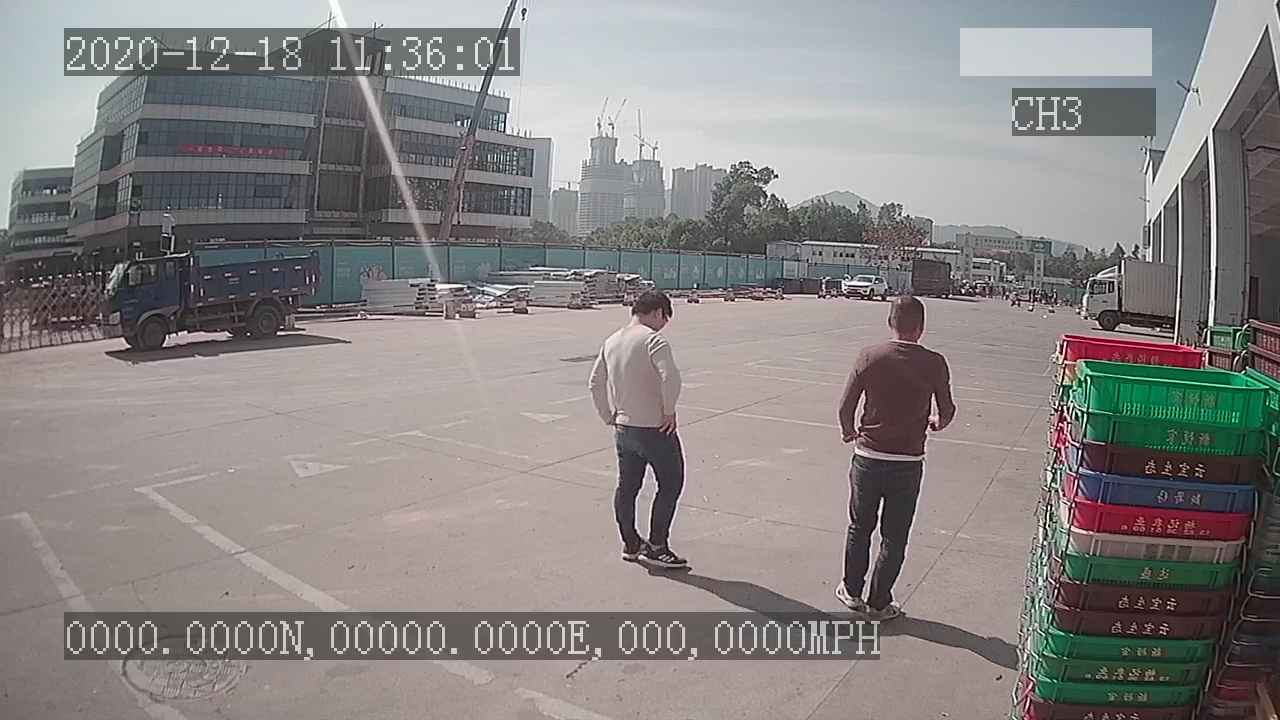person: (586, 290, 693, 569)
